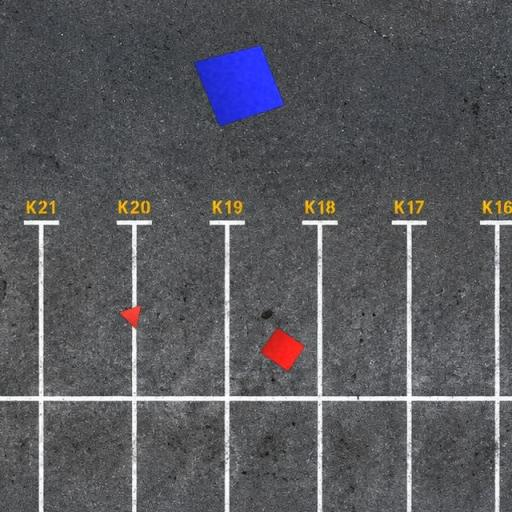BLUE_SQUARE: (192, 45, 286, 127)
RED_SQUARE: (260, 327, 306, 372)
